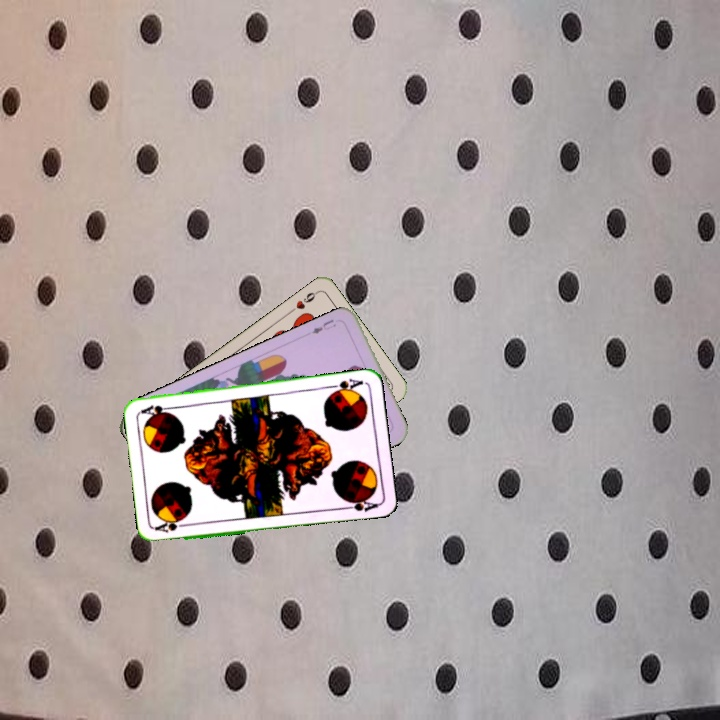EU: (308, 315, 339, 336)
H9: (285, 287, 321, 316)
SA: (325, 374, 366, 396), (152, 516, 193, 535)
